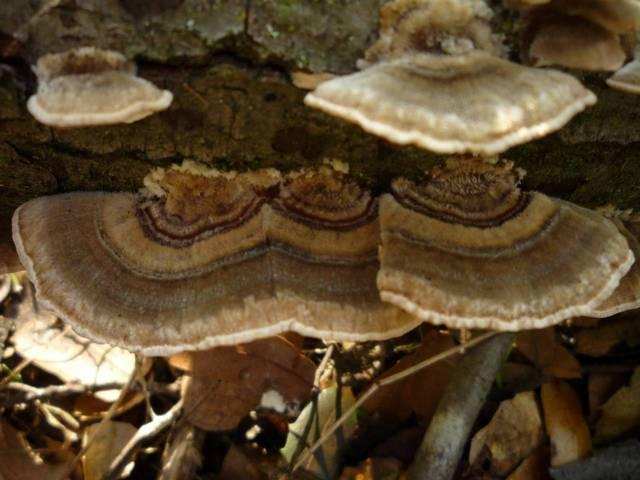poisonous_mushroom: (373, 155, 636, 479), (26, 150, 407, 356), (302, 47, 597, 156), (25, 44, 174, 128)
